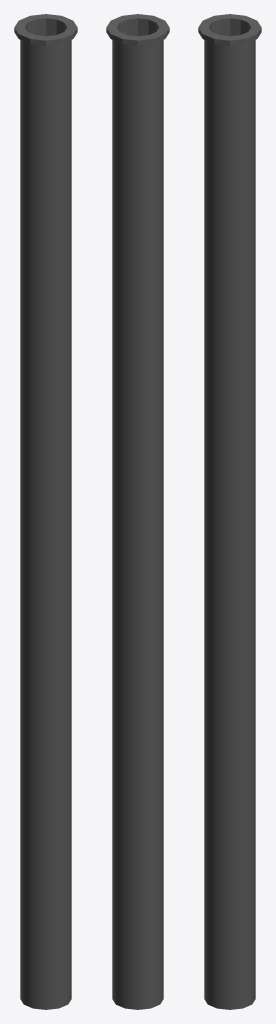
The model's file is SM_pipe_04.fbx.
The picture shows the model from 3 angles, left to right: view 1: azimuth 30°, elevation 25°; view 2: azimuth 210°, elevation 25°; view 3: azimuth 270°, elevation 25°; orthographic projection.
Visible parts, largest first — view 1: pipe_04; view 2: pipe_04; view 3: pipe_04.
Boxes of the visible parts, x1=… form: pipe_04: x1=14, y1=14, x2=77, y2=1009; pipe_04: x1=106, y1=14, x2=169, y2=1009; pipe_04: x1=198, y1=14, x2=261, y2=1009.
Bounding box in the file's own units: 18.09 × 307 × 18.09.
